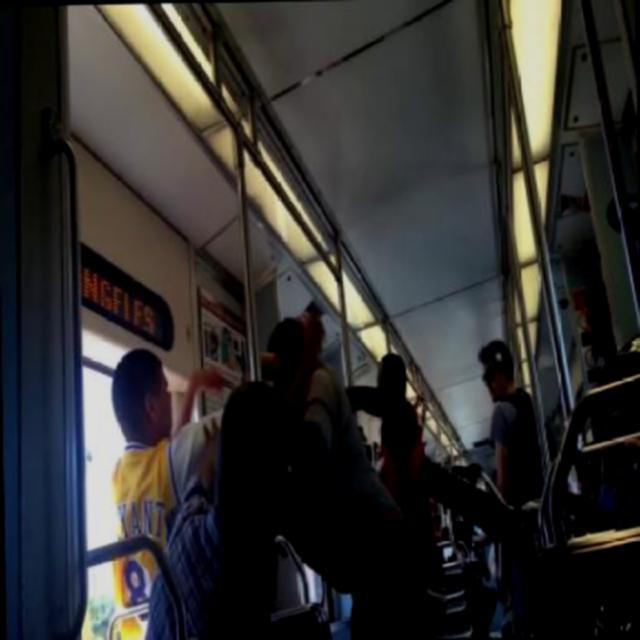fight: (107, 310, 410, 638)
non-fight: (476, 336, 544, 501)
